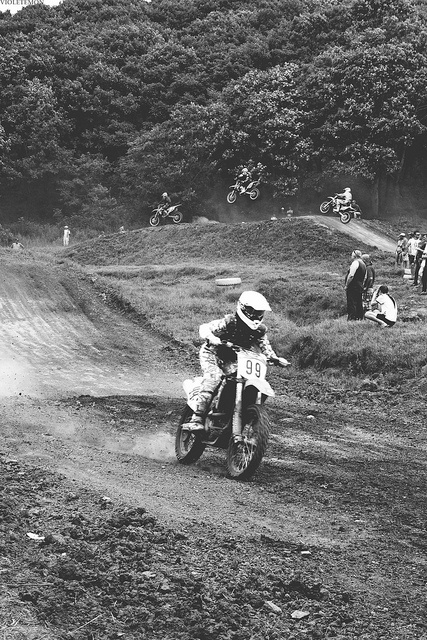non-vehicle: (173, 339, 288, 483), (319, 192, 353, 223), (149, 203, 183, 228), (226, 179, 259, 204)
